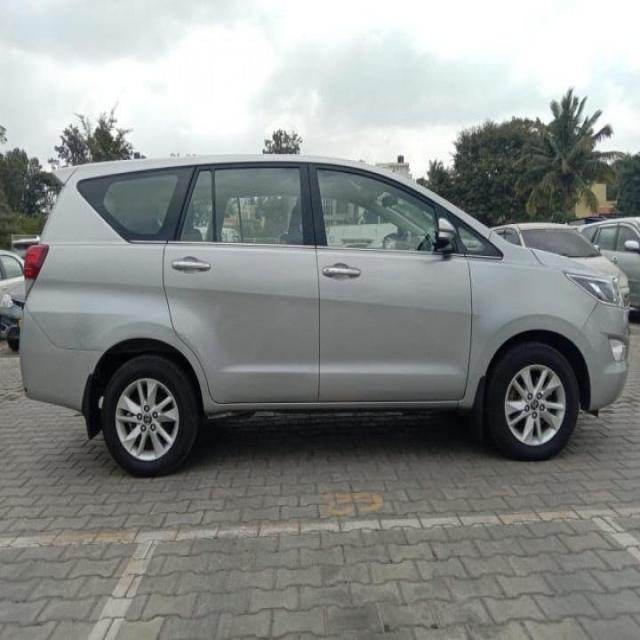light_vehicle: (18, 155, 632, 478)
